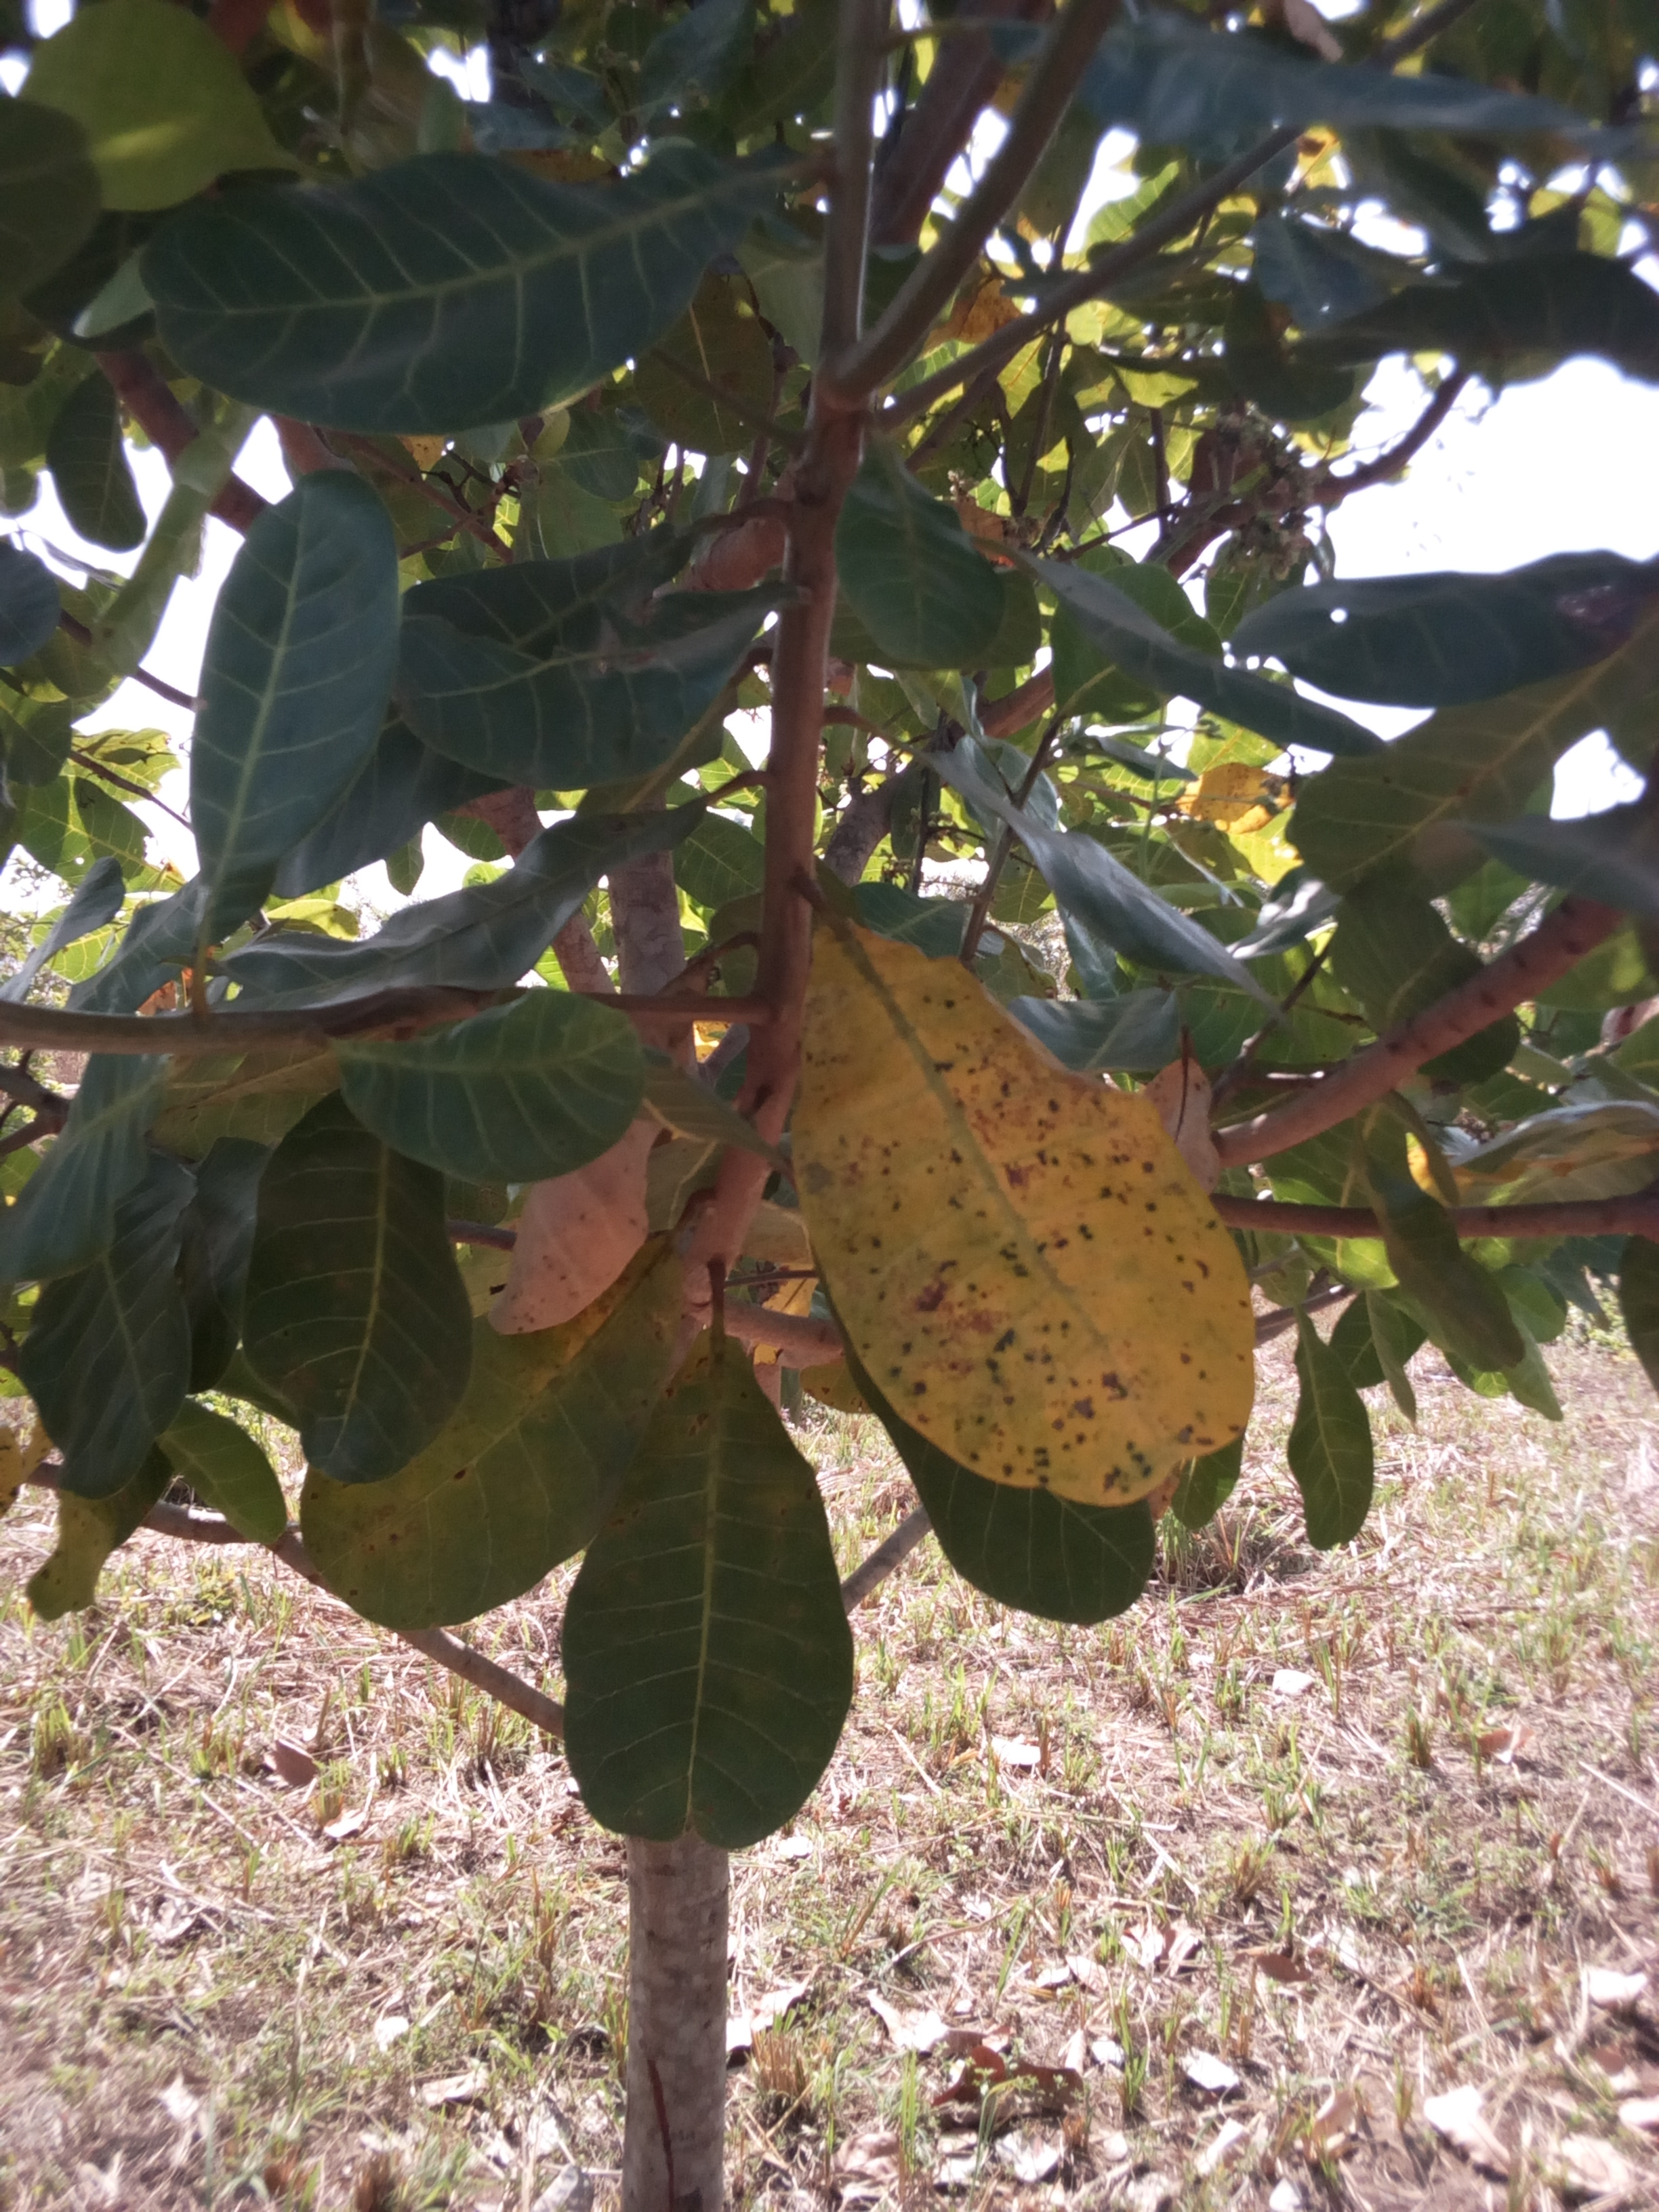Anthracnose: (793, 937, 1267, 1503)
